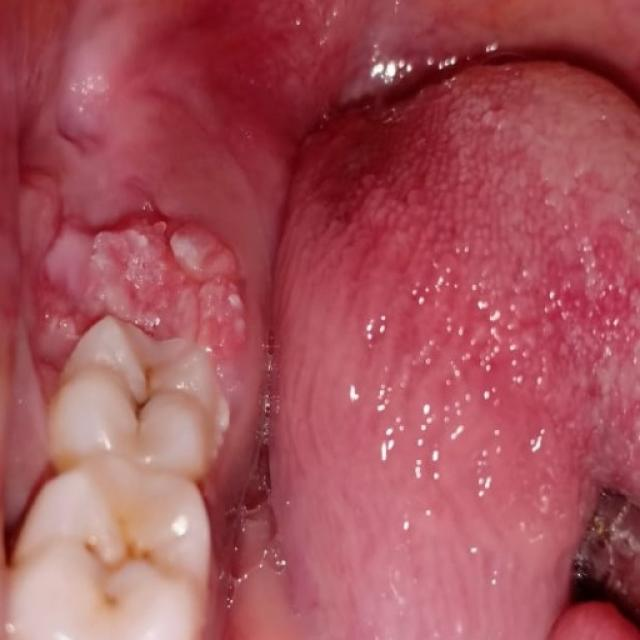cancer-detection: (13, 153, 282, 415)
processing_area: (2, 0, 639, 639)
